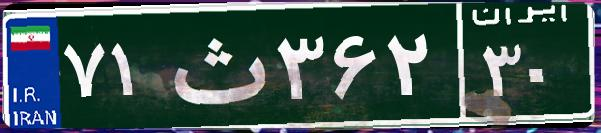0: (525, 38, 570, 115)
1: (110, 28, 158, 105)
2: (385, 28, 445, 110)
3: (273, 28, 330, 110), (475, 38, 525, 113)
6: (330, 28, 385, 110)
7: (57, 26, 110, 107)
ث: (158, 15, 273, 115)
